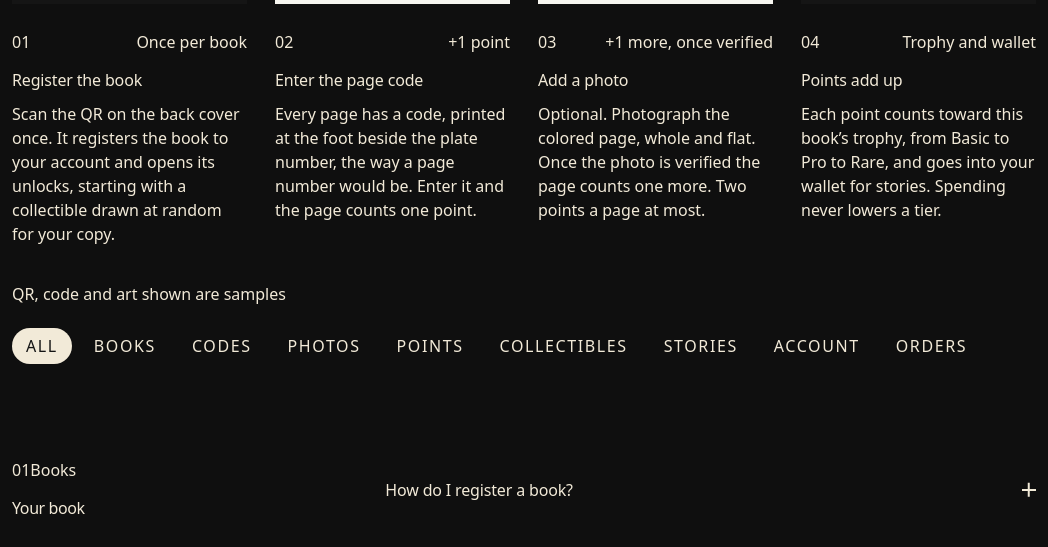
Test: Help (A · Index) › filters the FAQ with aria-pressed chips
The width and height of the screenshot is (1048, 547).
(page scrolled)
What coordinates should you click on to do the following:
click the button "Codes"
I would click on:
 (222, 346)
Its box is top-left (178, 328), bottom-right (266, 364).
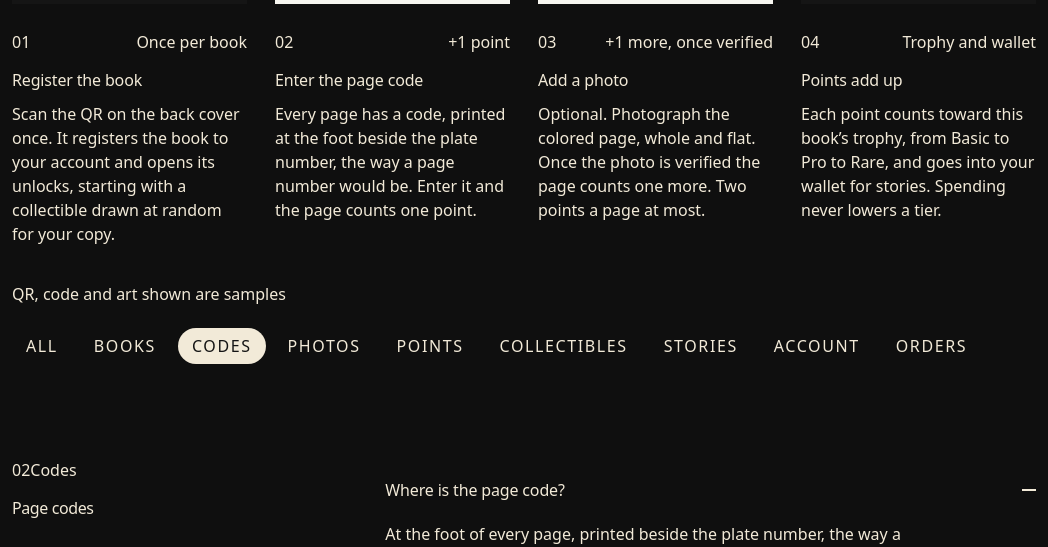
Check: the button "Codes" is pressed, box top-left (178, 328), bottom-right (266, 364)
Check: the button "All" is not pressed, box top-left (12, 328), bottom-right (72, 364)
What coordinates should you click on to do the following:
click the button "Where is the page code?"
I would click on:
 (475, 490)
Its box is top-left (385, 458), bottom-right (1036, 522).
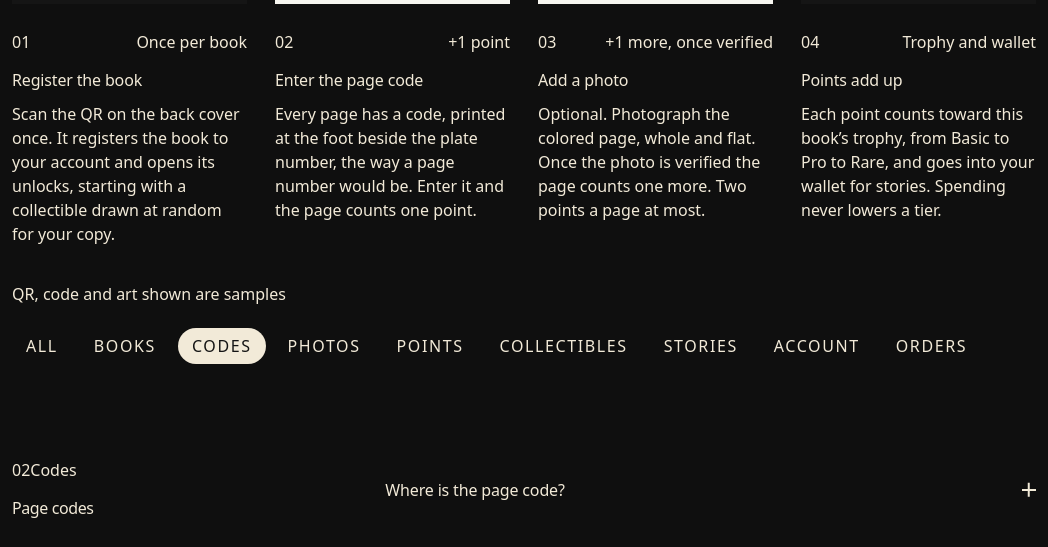
Check: the button "Where is the page code?" is collapsed, box top-left (385, 458), bottom-right (1036, 522)
What coordinates should you click on to do the following:
click the button "All"
I would click on:
 (42, 346)
Its box is top-left (12, 328), bottom-right (72, 364).
(page scrolled)
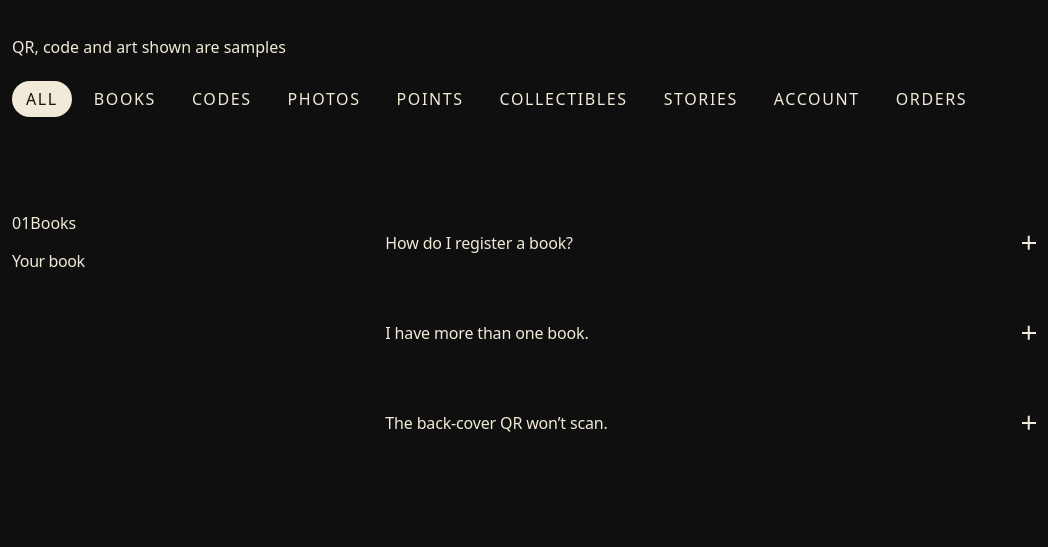
Check: the element with id "books" is shown
